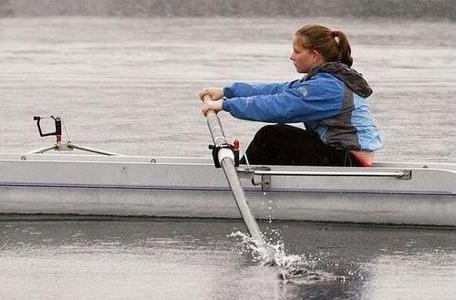person: (200, 25, 382, 170)
